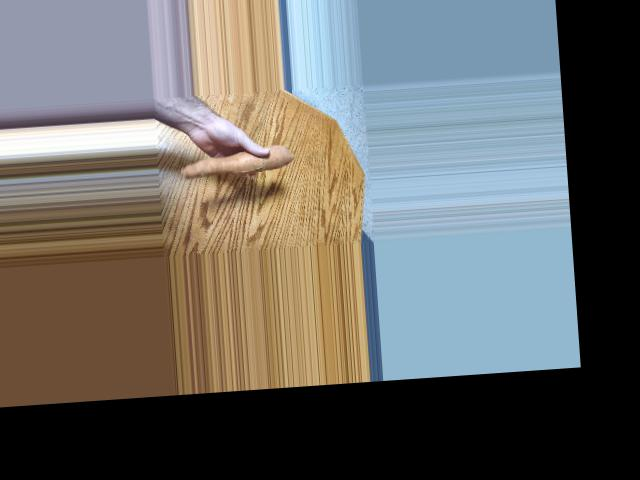sweet_potato: (175, 148, 292, 181)
